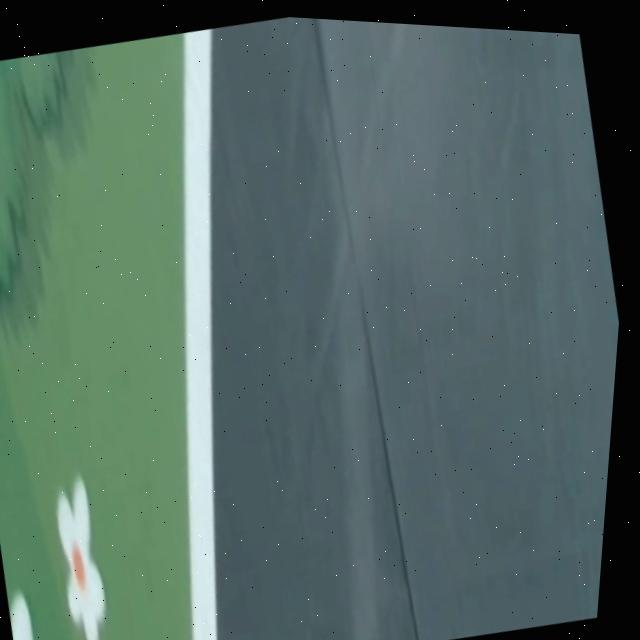right: (184, 28, 218, 640)
